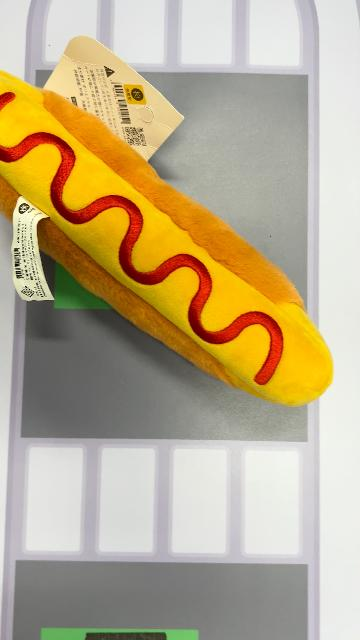hotdog: (1, 70, 334, 408)
